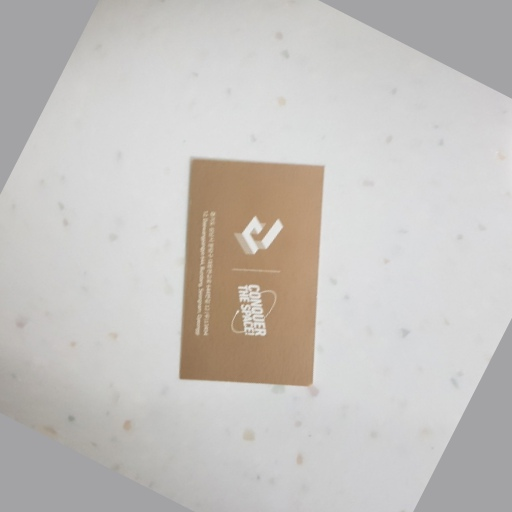Paper_2: (178, 148, 328, 396)
